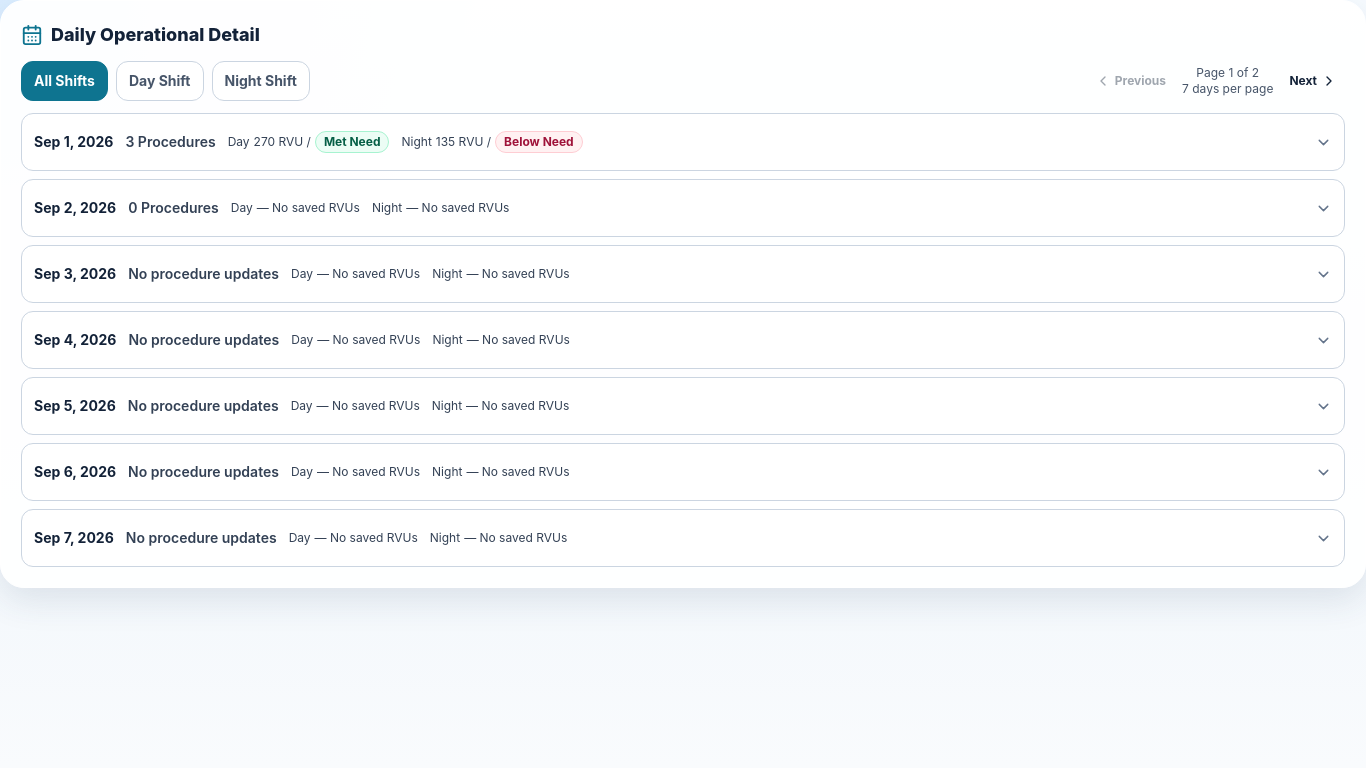
paginates seven dates without treating unreported shifts as zero
Expected: the button "Sep 2, 2026" shows "0 Procedures", x1=22 y1=180 x2=1344 y2=236
Expected: the button "Sep 3, 2026" shows "No procedure updates", x1=22 y1=246 x2=1344 y2=302
Click the button "Next" at (1313, 81), box x1=1281 y1=61 x2=1345 y2=101
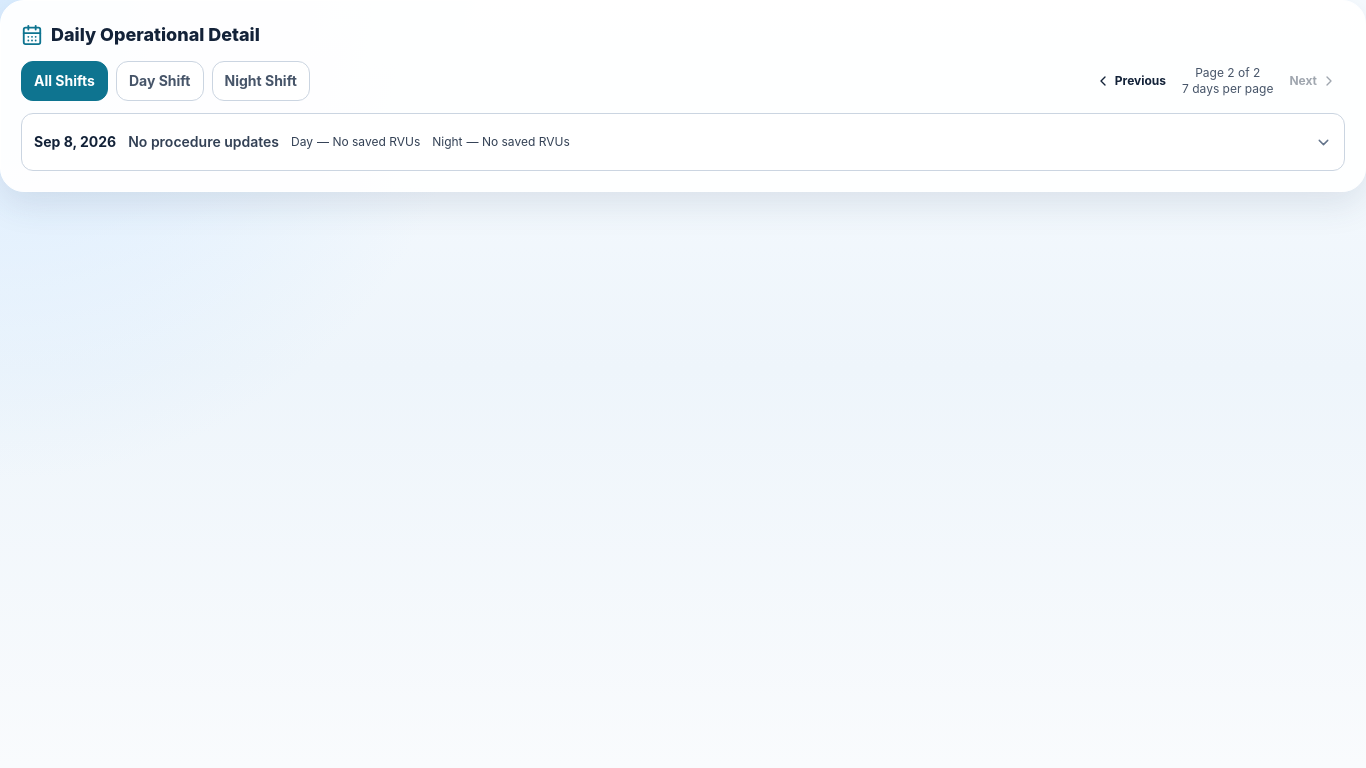
Result: the button "Sep 8, 2026" is shown at x1=22 y1=114 x2=1344 y2=170
Result: the button "Sep 1, 2026" is gone
Result: the button "Next" is disabled at x1=1281 y1=61 x2=1345 y2=101
